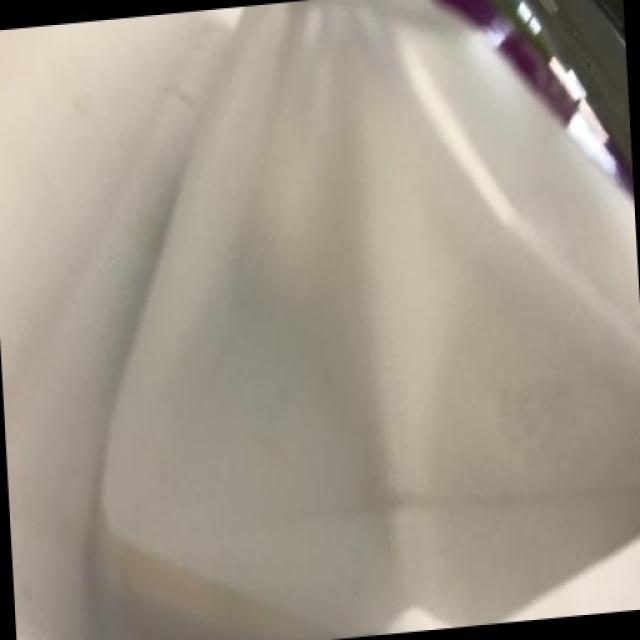plastico: (77, 0, 640, 638)
